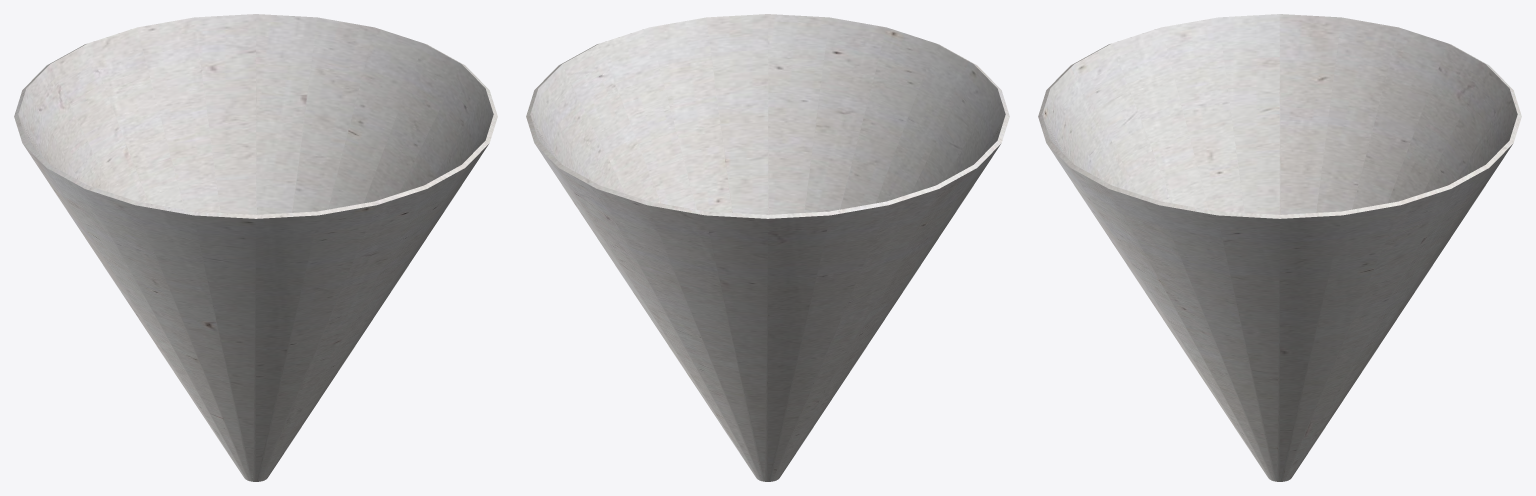
Rendered from SM_漏斗滤纸_002.fbx.
3 renders of one model, left to right at view 1: azimuth 30°, elevation 25°; view 2: azimuth 150°, elevation 25°; view 3: azimuth 270°, elevation 25°, orthographic.
Visible parts, largest first — view 1: SM_漏斗滤纸_002; view 2: SM_漏斗滤纸_002; view 3: SM_漏斗滤纸_002.
Boxes of the visible parts, <box> form: SM_漏斗滤纸_002: <box>14,14,497,481</box>; SM_漏斗滤纸_002: <box>526,14,1009,481</box>; SM_漏斗滤纸_002: <box>1038,14,1521,481</box>.
Bounding box in the file's own units: 0.04 × 0.0331 × 0.04.
